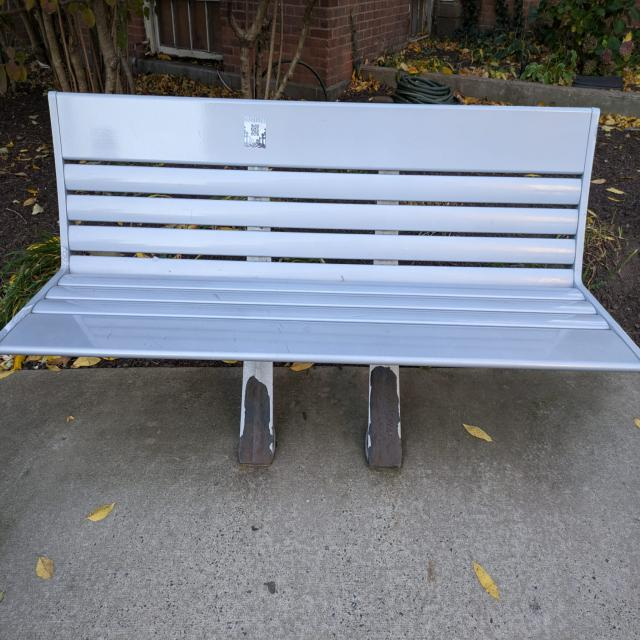Filiform Corrosion: (366, 367, 402, 468), (240, 377, 276, 465)
